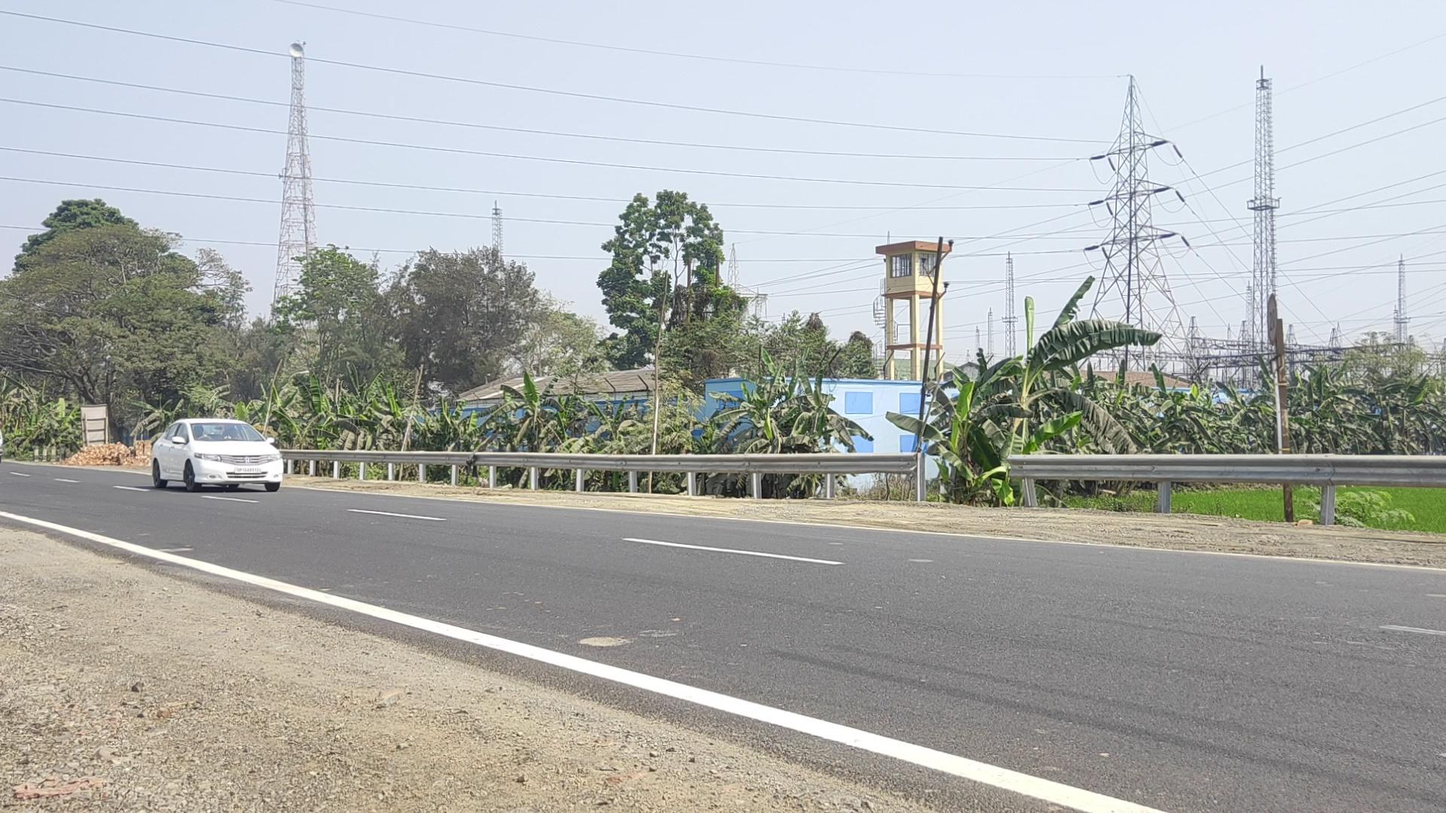car: (151, 418, 284, 493)
